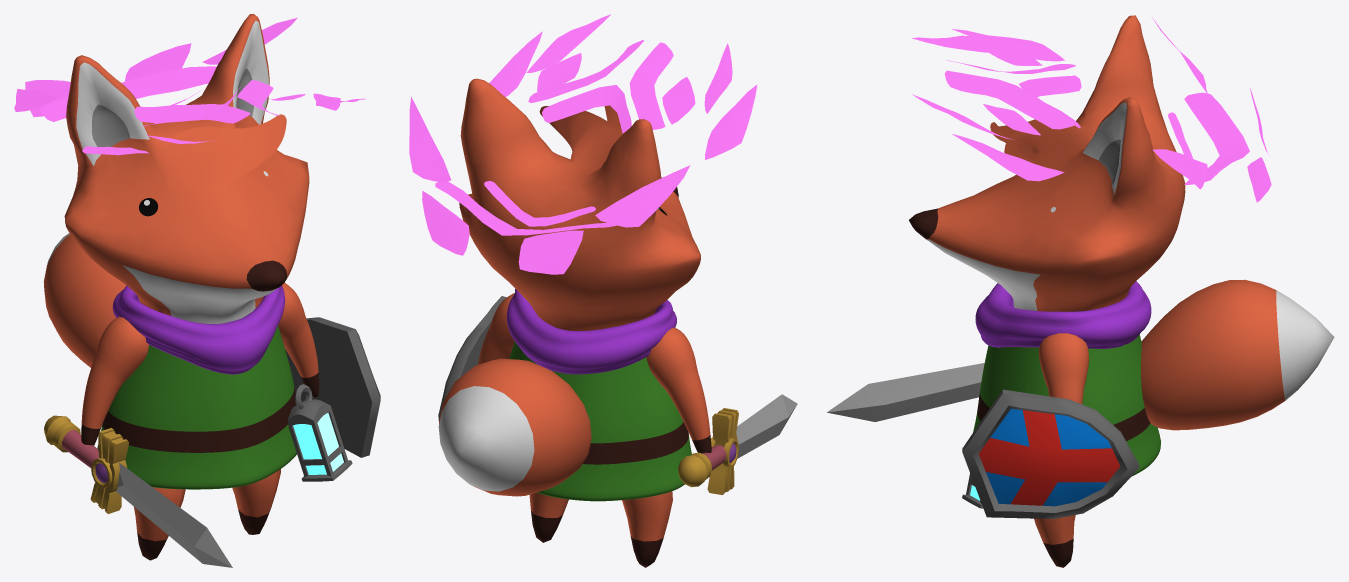
The model's file is tunic.glb.
3 views of the same model, side by side, from view 1: azimuth 30°, elevation 25°; view 2: azimuth 150°, elevation 25°; view 3: azimuth 270°, elevation 25° (orthographic).
Parts seen in each view (by area): view 1: Plane002, Maillage_2, Crown, Plane002_1, Scraf_Retopo, Plane015, Maillage, Plane001, Hair_Retopo, Maillage_3, Plane016, Plane016_1 (+8 smaller); view 2: Plane002, Crown, Maillage_2, Maillage, Maillage_1, Scraf_Retopo, Plane001, Hair_Retopo, Plane016_1, Plane006, Maillage_3, Plane016 (+2 smaller); view 3: Plane002, Maillage, Crown, Maillage_2, Scraf_Retopo, Plane015, Plane015_1, Plane016, Plane015_2, Maillage_1, Plane002_1, Hair_Retopo (+3 smaller).
Part boxes in pixels (bbox=[...]): Plane002: bbox=[64, 14, 309, 315]; Maillage_2: bbox=[97, 325, 296, 489]; Crown: bbox=[14, 17, 365, 155]; Plane002_1: bbox=[76, 20, 277, 323]; Scraf_Retopo: bbox=[112, 285, 285, 374]; Plane015: bbox=[285, 317, 380, 457]; Maillage: bbox=[43, 234, 126, 367]; Plane001: bbox=[81, 282, 318, 428]; Hair_Retopo: bbox=[166, 114, 286, 188]; Maillage_3: bbox=[102, 387, 296, 452]; Plane016: bbox=[116, 462, 232, 567]; Plane016_1: bbox=[44, 415, 128, 513]; Plane002: bbox=[459, 78, 700, 330]; Crown: bbox=[409, 14, 757, 274]; Maillage_2: bbox=[509, 341, 691, 501]; Maillage: bbox=[438, 358, 591, 496]; Maillage_1: bbox=[438, 386, 534, 491]; Scraf_Retopo: bbox=[506, 289, 676, 374]; Plane001: bbox=[478, 293, 710, 440]; Hair_Retopo: bbox=[539, 105, 622, 169]; Plane016_1: bbox=[678, 408, 738, 494]; Plane006: bbox=[529, 491, 672, 541]; Maillage_3: bbox=[583, 422, 688, 464]; Plane016: bbox=[736, 394, 797, 458]; Plane002: bbox=[929, 15, 1185, 311]; Maillage: bbox=[1141, 279, 1285, 430]; Crown: bbox=[911, 16, 1271, 202]; Maillage_2: bbox=[973, 334, 1160, 476]; Scraf_Retopo: bbox=[975, 281, 1151, 348]; Plane015: bbox=[962, 389, 1139, 518]; Plane015_1: bbox=[979, 410, 1120, 505]; Plane016: bbox=[827, 363, 984, 421]; Plane015_2: bbox=[986, 408, 1111, 506]; Maillage_1: bbox=[1276, 290, 1334, 400]; Plane002_1: bbox=[926, 102, 1127, 310]; Hair_Retopo: bbox=[990, 119, 1094, 169].
Bounding box in the file's own units: 1.5 × 2.48 × 2.35.
